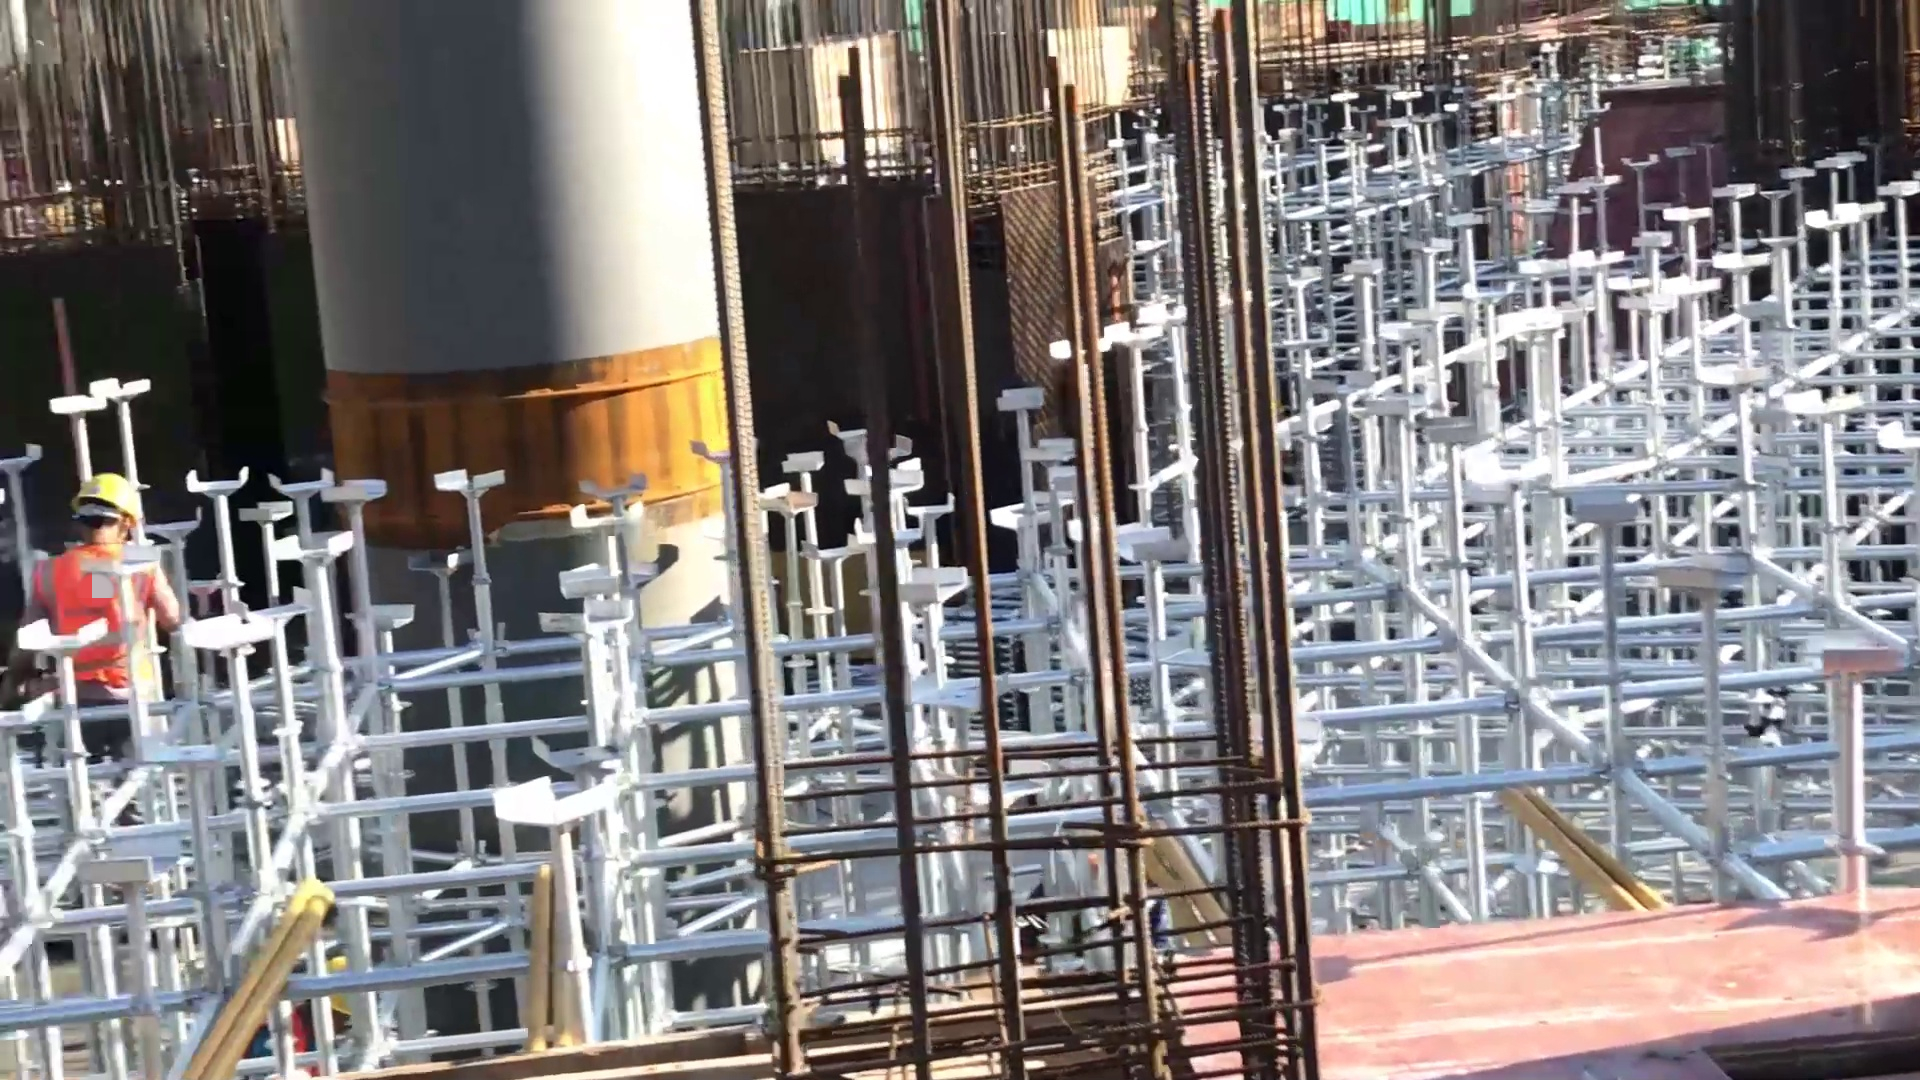helmet: (74, 462, 154, 534)
vest: (33, 524, 167, 684)
